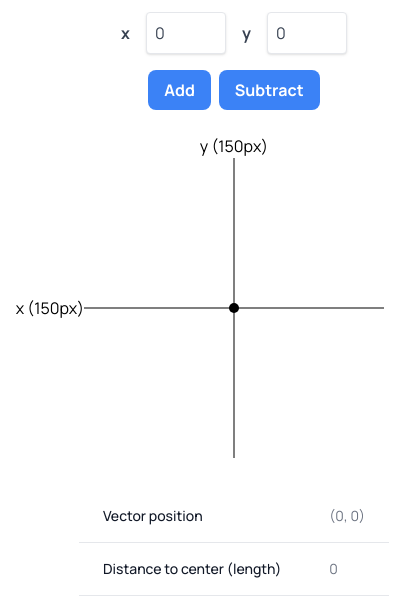
JVector › updates the vector position when clicking "Add" button
Type "5" into the number field labelled "x" at (186, 33), box [146,12,226,54]
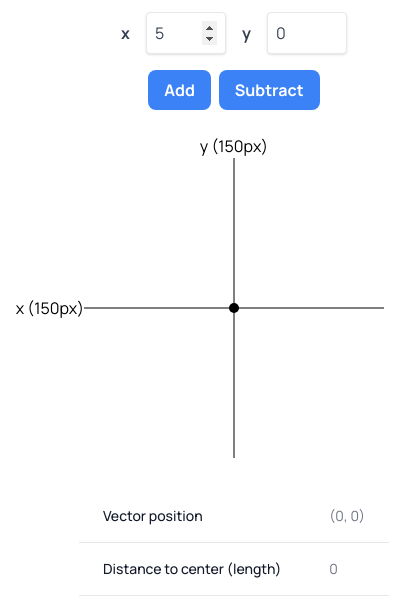
Type "10" into the number field labelled "y" at (307, 33), box [267,12,347,54]
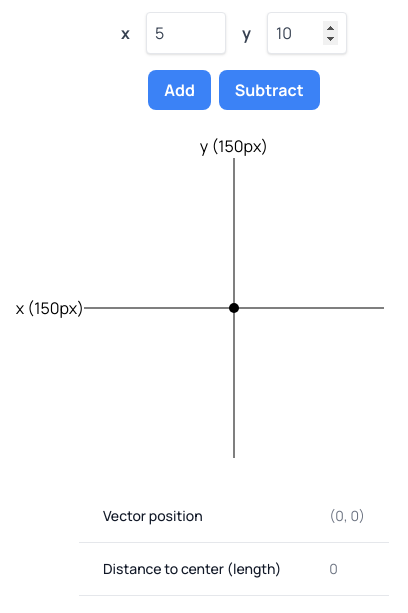
Click the button "Add" at (180, 90), box [148,70,211,110]
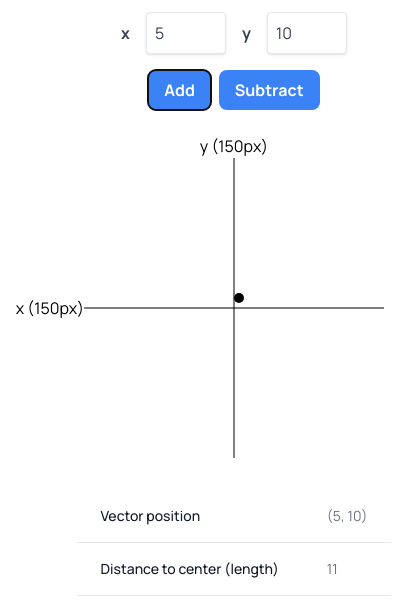
Check: the text "(5, 10)" is shown, box [303,490,392,542]
